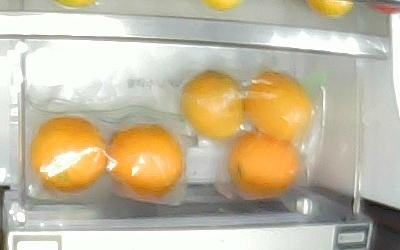orange_vinyl: (30, 117, 107, 192), (108, 124, 182, 198), (244, 72, 313, 140), (230, 133, 298, 197), (182, 70, 244, 140)
